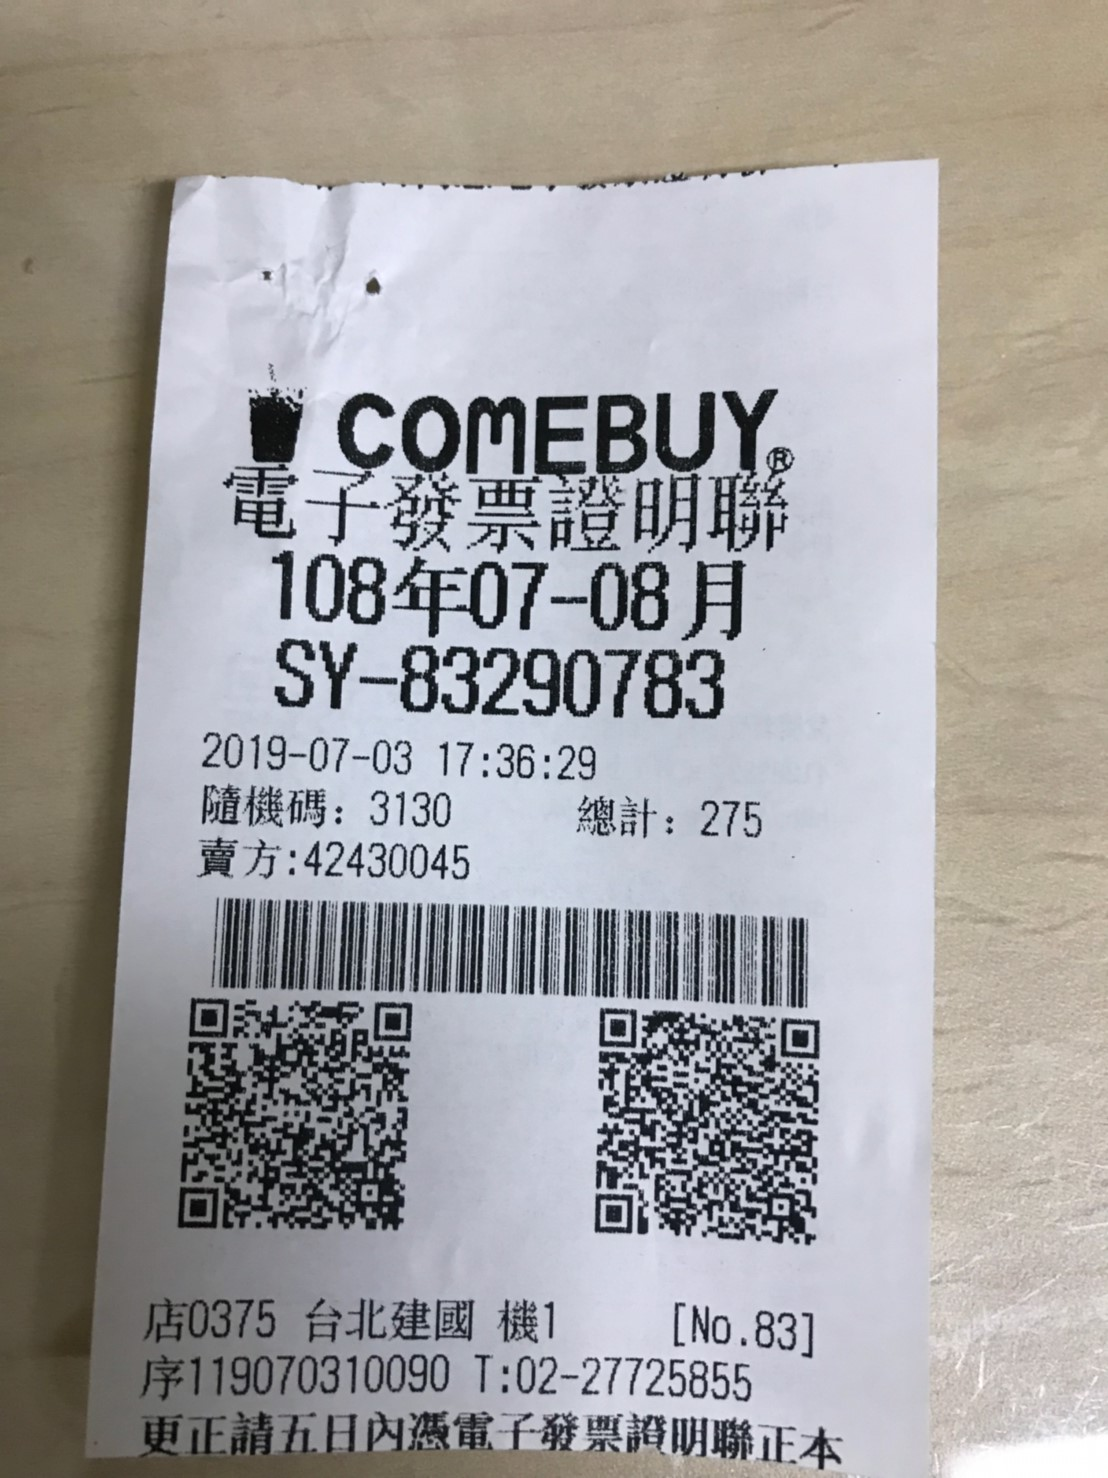Date_New: (271, 545, 748, 638)
Number_New: (399, 644, 731, 725)
